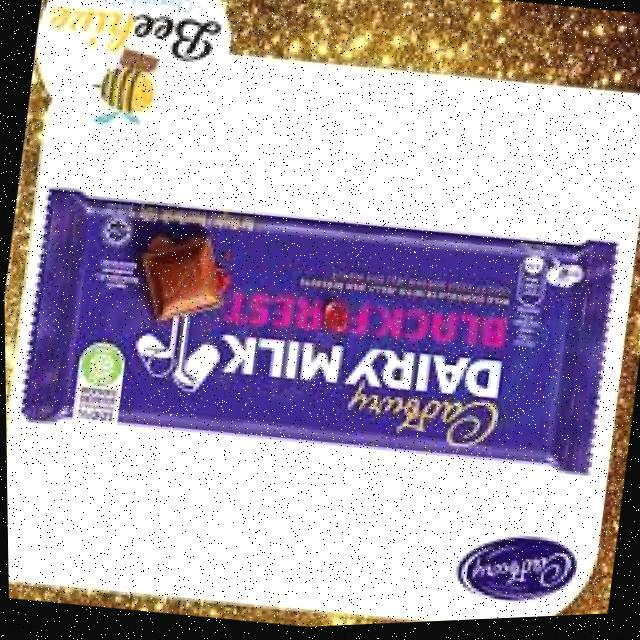cadbury_chocolate: (40, 197, 598, 468)
